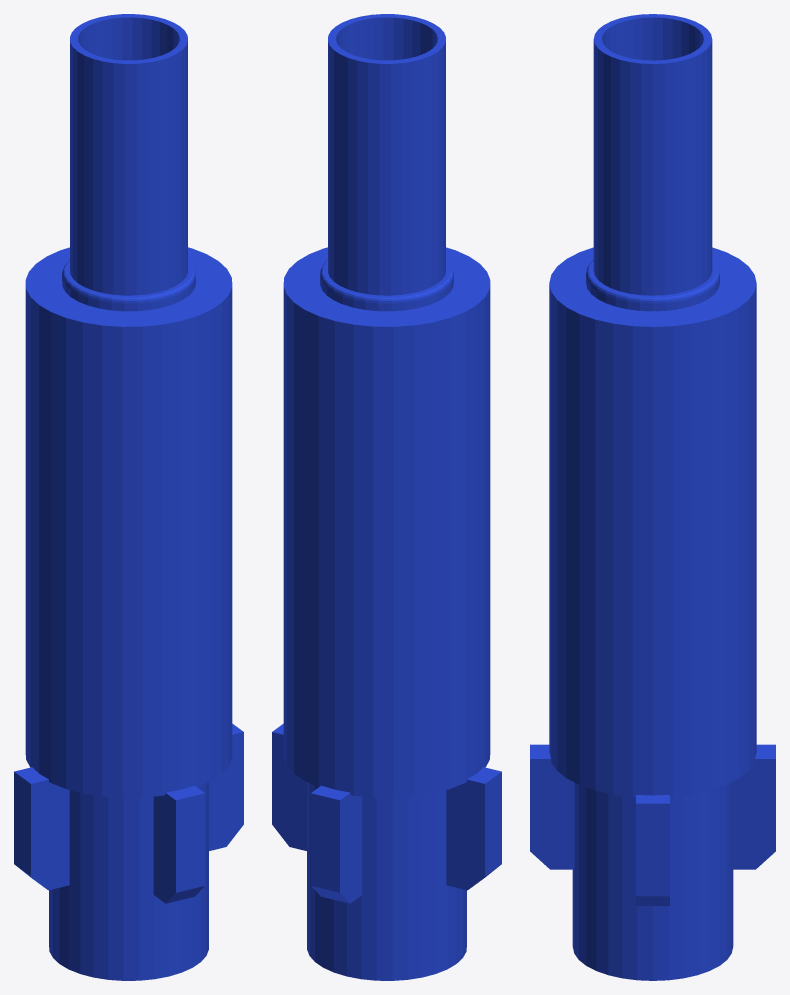
Rendered from pen1_4.fbx.
3 renders of one model, left to right at view 1: azimuth 30°, elevation 25°; view 2: azimuth 150°, elevation 25°; view 3: azimuth 270°, elevation 25°, orthographic.
Visible parts, largest first — view 1: pen1_4; view 2: pen1_4; view 3: pen1_4.
Part boxes in pixels (x1=…): pen1_4: x1=14, y1=14, x2=243, y2=980; pen1_4: x1=272, y1=14, x2=501, y2=980; pen1_4: x1=530, y1=14, x2=775, y2=980.
Size of the model in its own units: 7.16 by 29.17 by 7.16.
